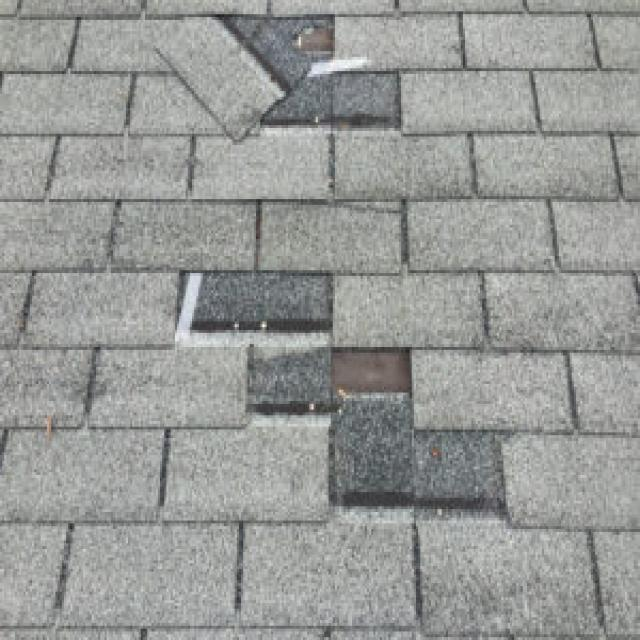damage: (127, 2, 438, 137), (208, 331, 444, 450), (326, 417, 519, 538), (169, 257, 343, 356)
